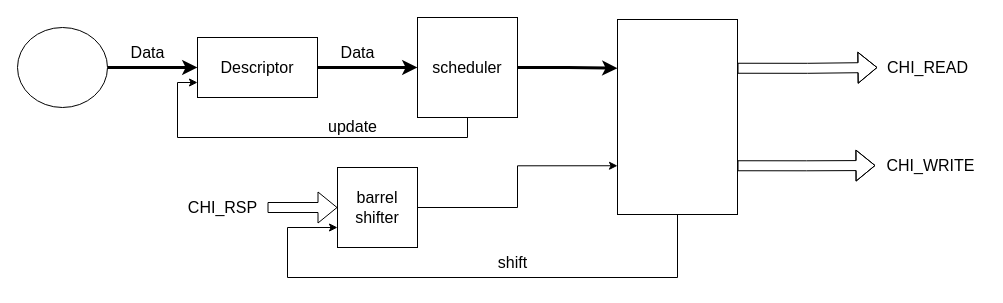
Some shapes in this 1003 by 303 pixel diagram are drawn without their labels. The shapes that lost their labels are listed below. From the top down, each one's box as (x1, y1, x2, y2) in pixels, then its label:
(16, 26, 108, 108): Proc
(616, 18, 738, 214): CHI_Converter
